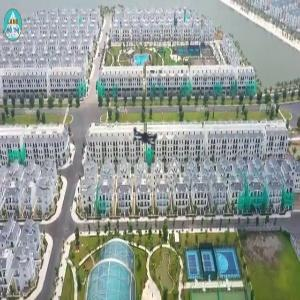drone: (111, 101, 182, 172)
